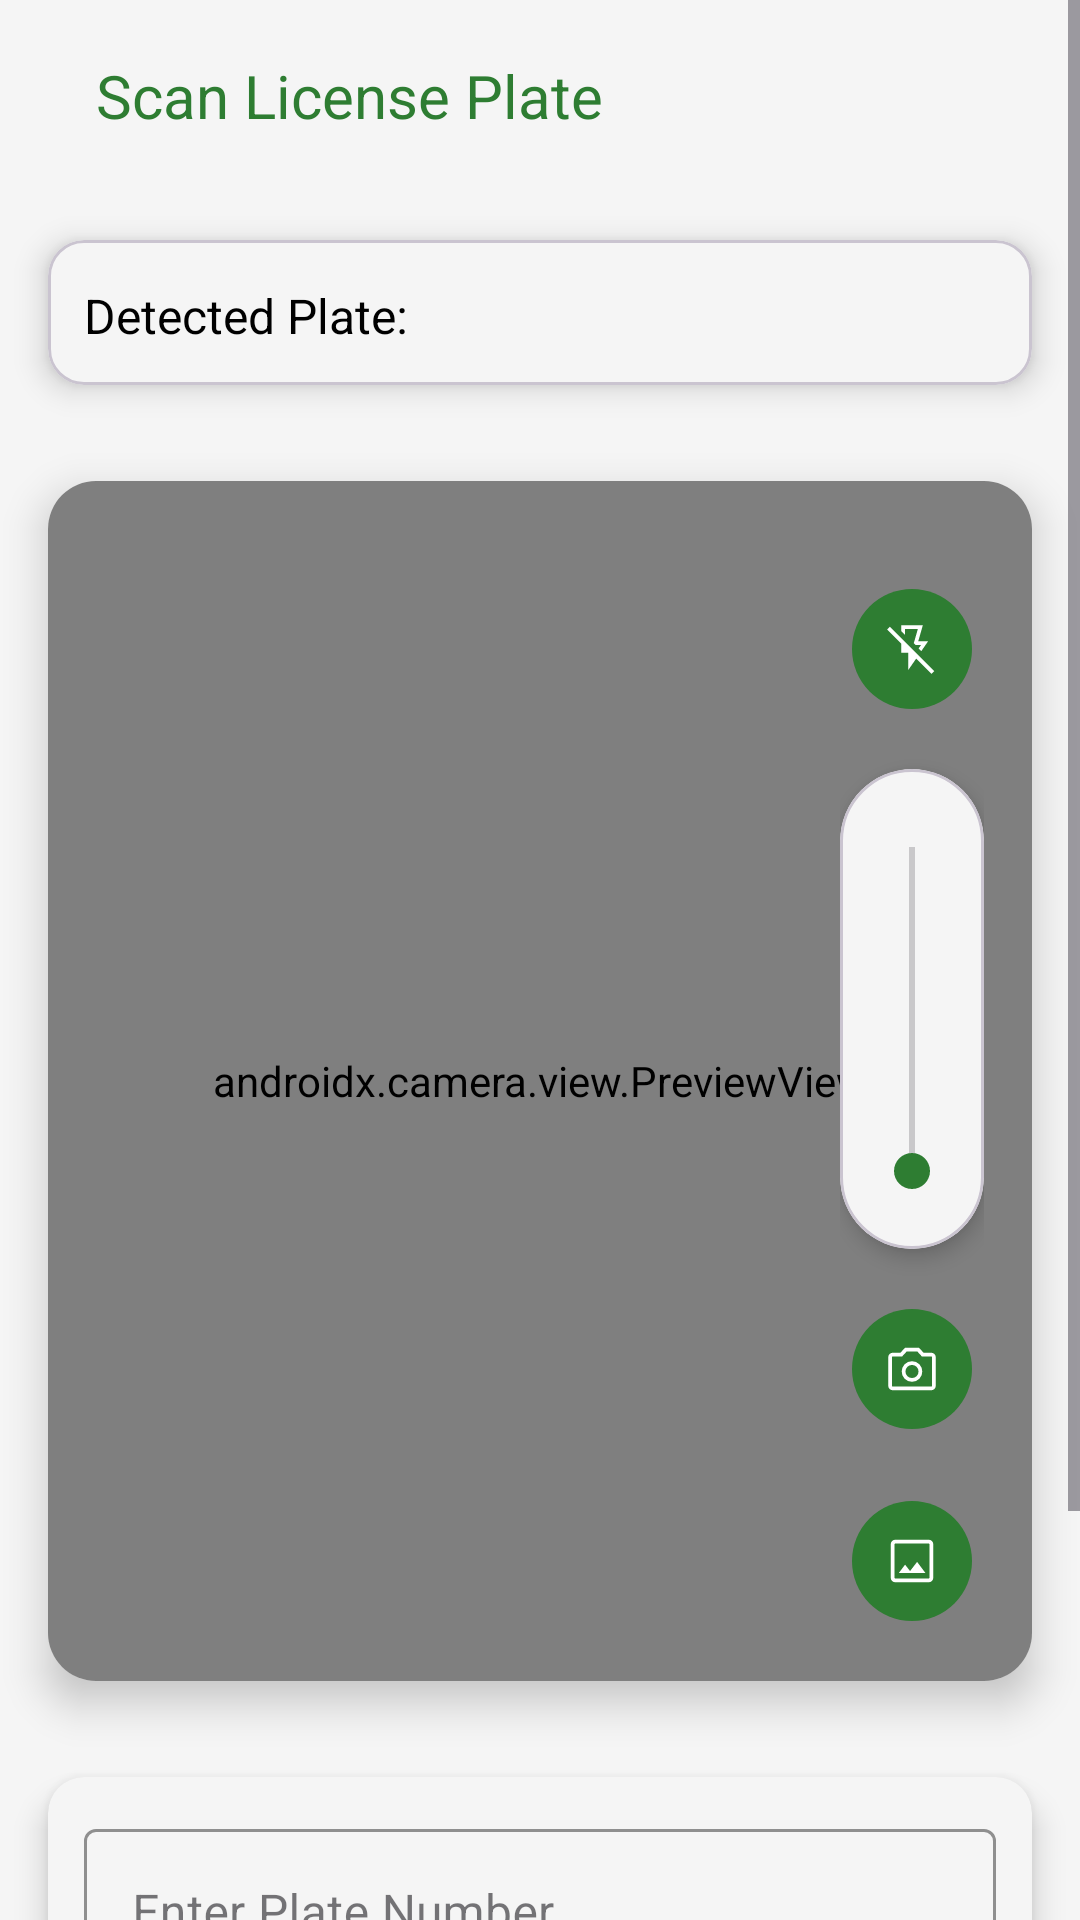

Point at icon controls on the screen. Image size 1080 × 1920, points as point (x, y).
flash off: point (912, 649)
gallery: point (912, 1561)
